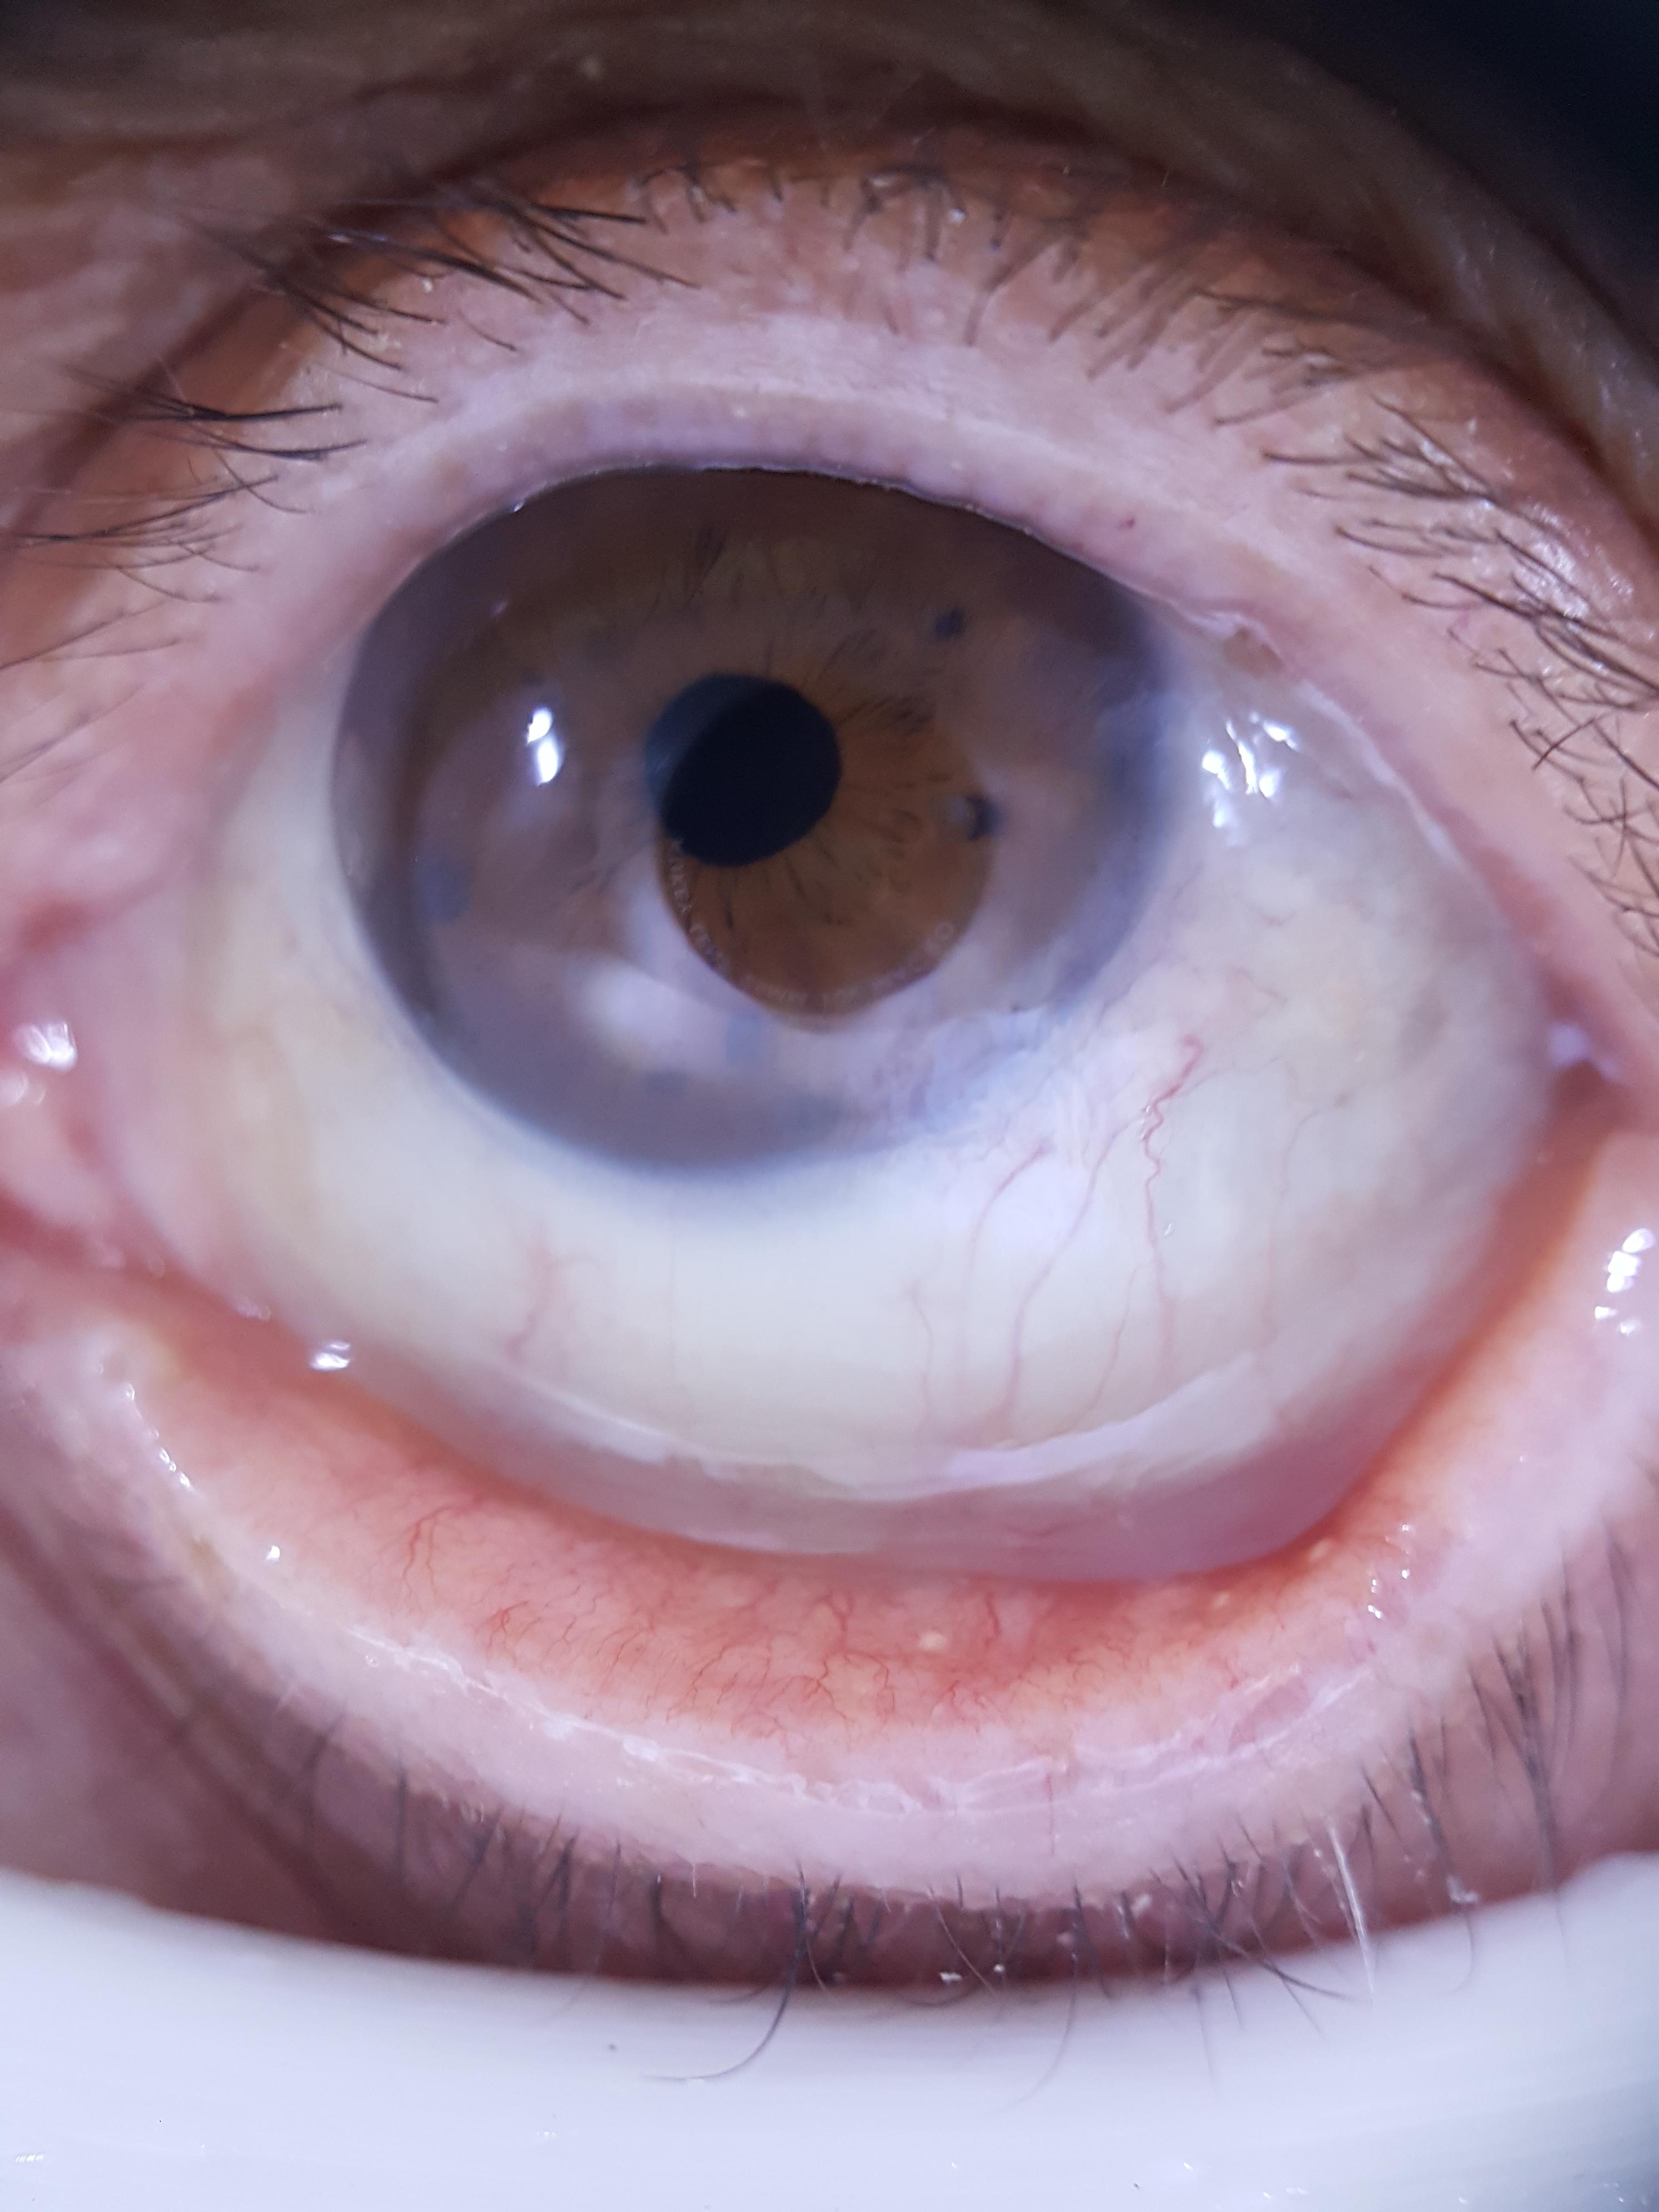forniceal: (91, 1151, 1596, 1635)
forniceal_palpebral: (54, 1139, 1596, 1710)
palpebral: (66, 1151, 1591, 1698)
